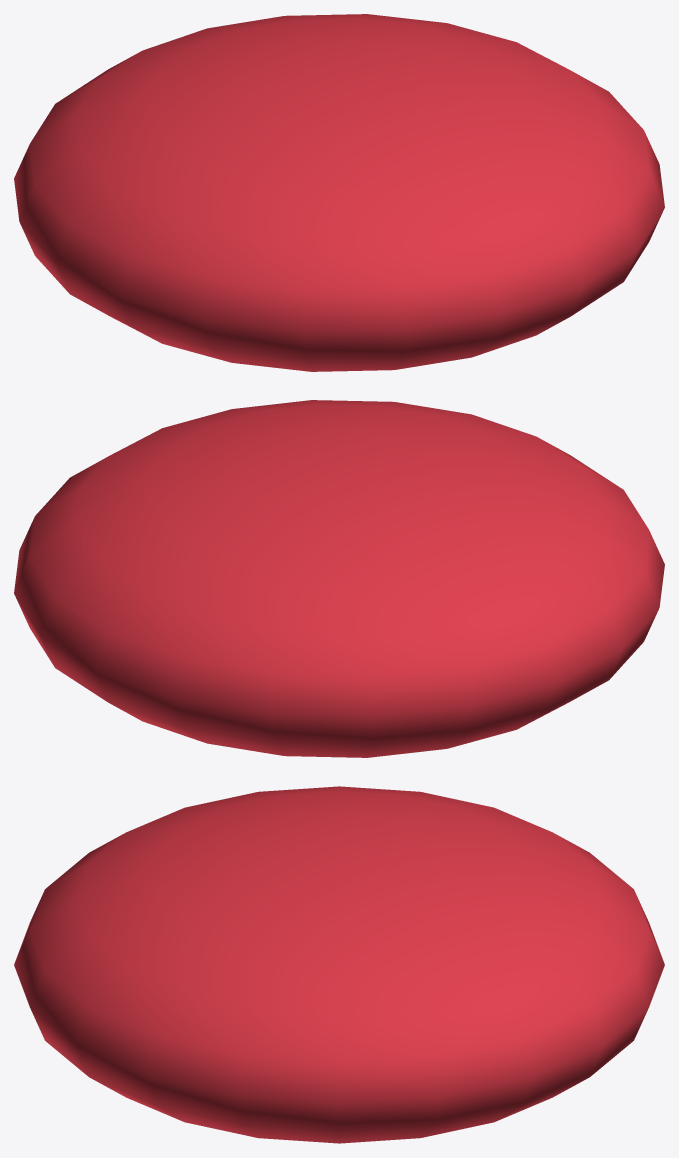
3 renders of one model, top to bottom at view 1: azimuth 30°, elevation 25°; view 2: azimuth 150°, elevation 25°; view 3: azimuth 270°, elevation 25°, orthographic.
Parts seen in each view (by area): view 1: Sphere001; view 2: Sphere001; view 3: Sphere001.
Boxes of the visible parts, x1,y1,x2,y2 form: Sphere001: (14, 14, 664, 371); Sphere001: (14, 400, 664, 757); Sphere001: (14, 786, 664, 1143).
Size of the model in its own units: 520 by 202 by 520.
